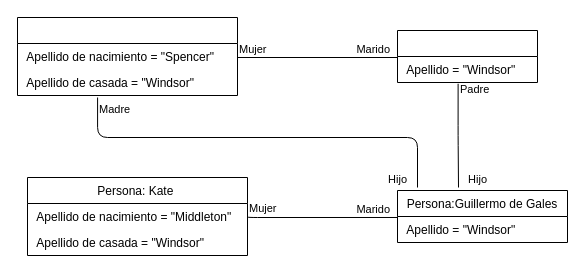
This 585x276 diagram has some shape labels left out. The shapes that lost their labels are listed below. From the top down, each one's box as (x1, y1, x2, y2) in pixels, then its label:
(16, 16, 238, 96): Persona: Diana de Gales
(396, 30, 538, 82): Persona: Carlos de Gales
